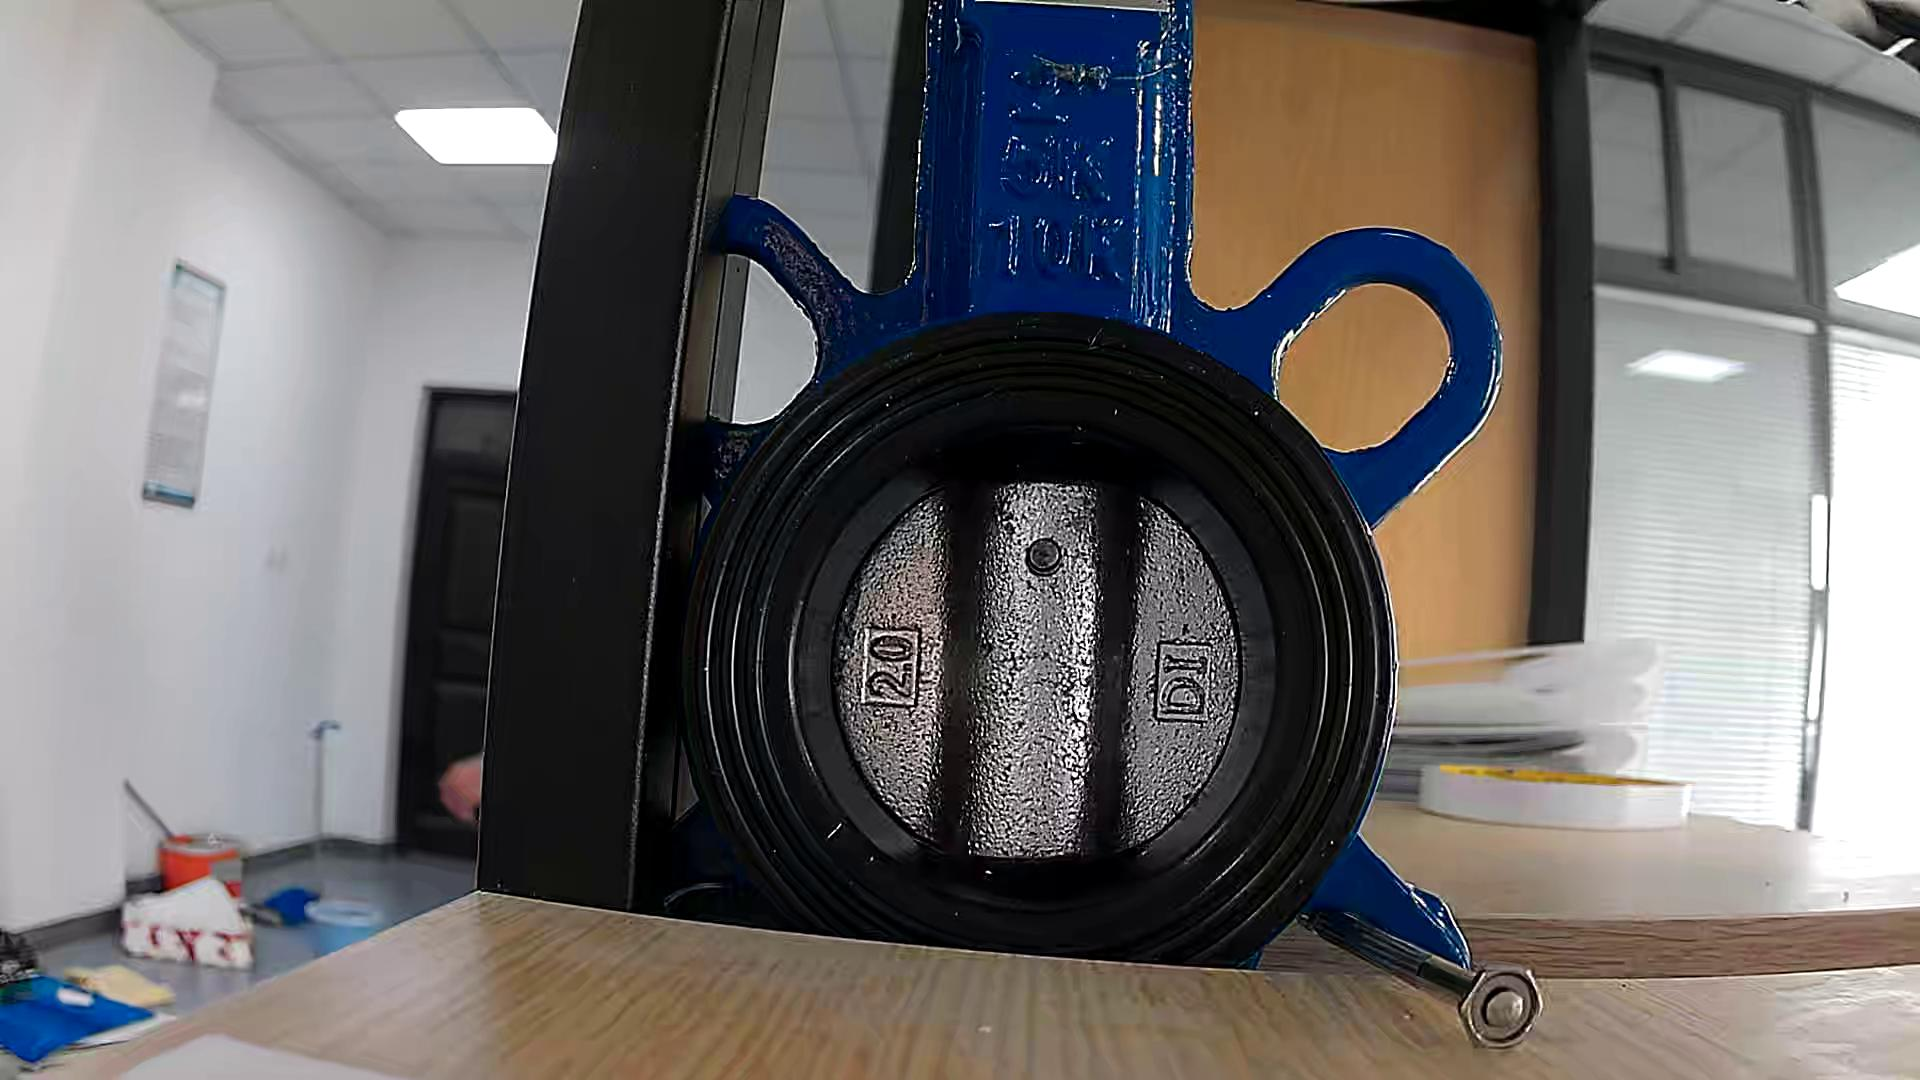valve: (833, 475, 1241, 862)
